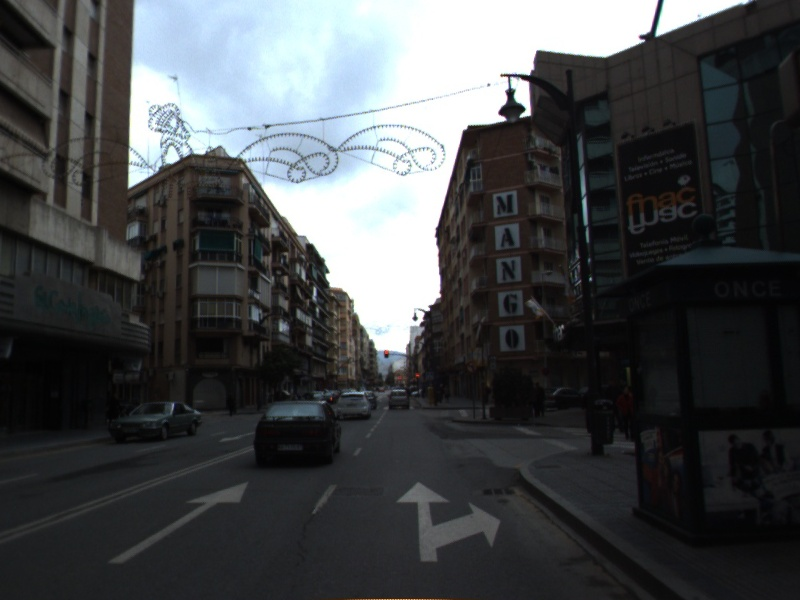STRAIGHT: (106, 479, 251, 566)
STRAIGHT_RIGHT: (394, 480, 502, 564)
